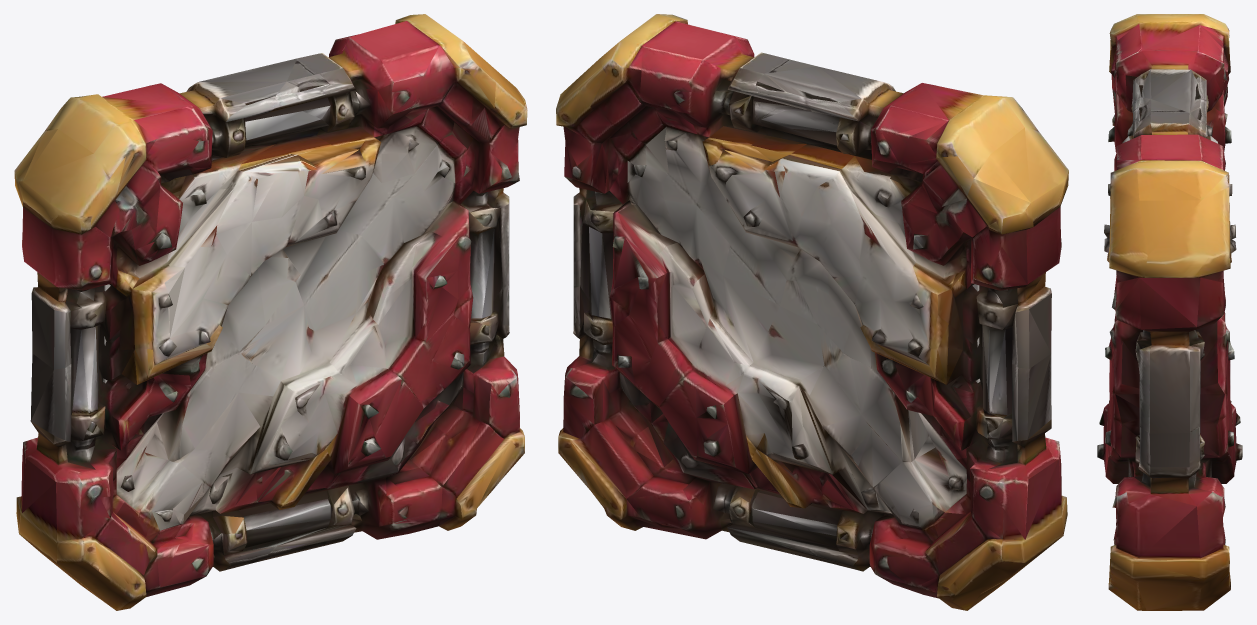
The model's file is ds_sandblade_buckler_lo.glb.
The picture shows the model from 3 angles, left to right: view 1: azimuth 30°, elevation 25°; view 2: azimuth 150°, elevation 25°; view 3: azimuth 270°, elevation 25°; orthographic projection. The views are drawn at different scales.
Parts seen in each view (by area): view 1: base, corner_ul, corner_dl, corner_ur, corner_dr; view 2: base, corner_ul, corner_dl, corner_ur, corner_dr; view 3: base, corner_ur, corner_dr, corner_ul.
Part boxes in pixels (x1,y1,x2,y2): base: (21,21,519,596); corner_ul: (14,94,160,237); corner_dl: (16,496,163,610); corner_ur: (395,14,527,144); corner_dr: (410,422,524,530); base: (563,21,1061,594); corner_ul: (909,95,1068,237); corner_dl: (911,495,1067,610); corner_ur: (556,14,687,144); corner_dr: (558,422,663,530); base: (1097,23,1242,558); corner_ur: (1109,160,1230,278); corner_dr: (1108,523,1230,610); corner_ul: (1109,14,1230,102).
Size of the model in its own units: 0.9795 by 0.9749 by 0.2892.
1 material, 1 textured.
